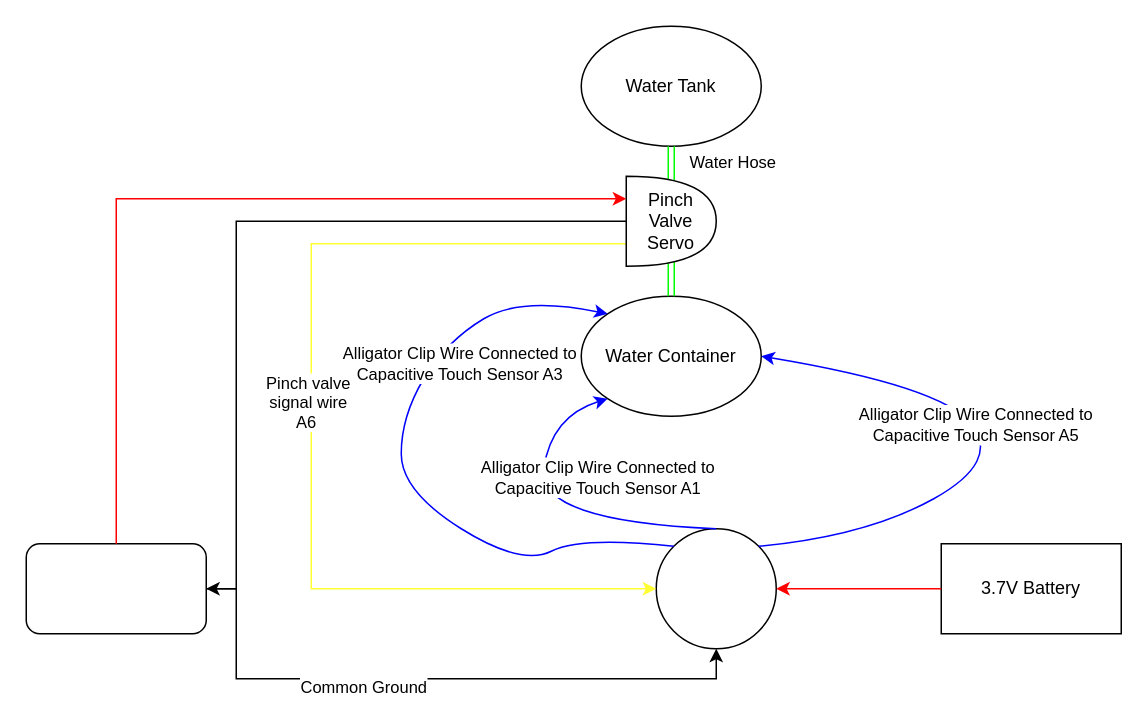
Some shapes in this 1148 by 723 pixel diagram are drawn without their labels. Each missing label, with the centre of its shape:
"5V Battery" belongs at (x=115, y=588).
"AdaFruit CPX" belongs at (x=715, y=588).
